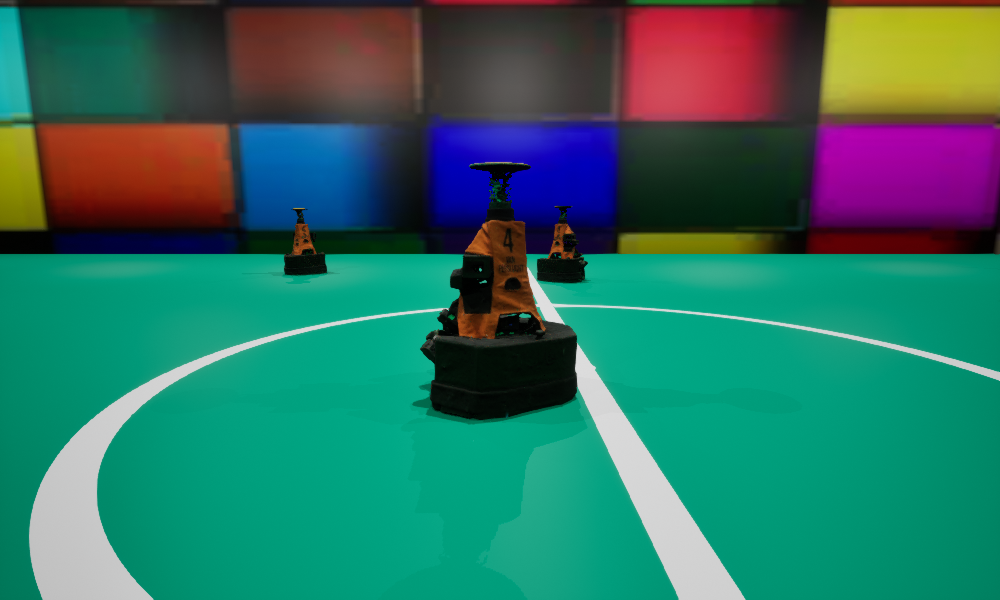0 orange robot TechUnited: (420, 162, 576, 418), (537, 206, 587, 282), (284, 208, 326, 274)
